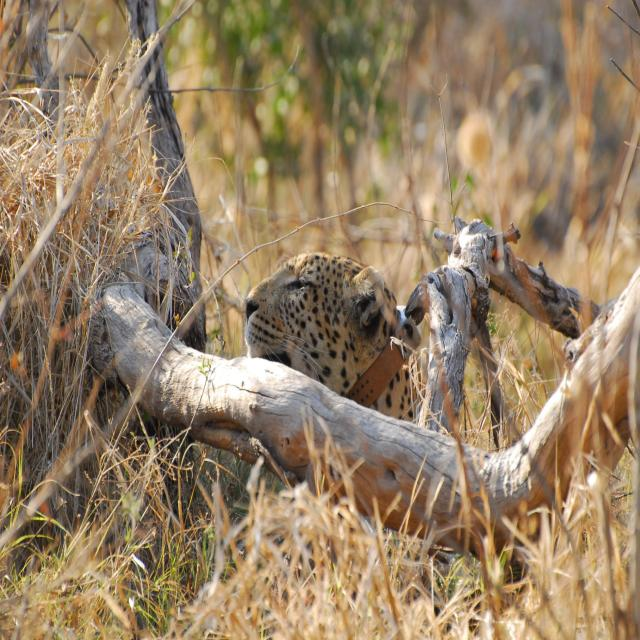Leopard: (242, 248, 420, 436)
